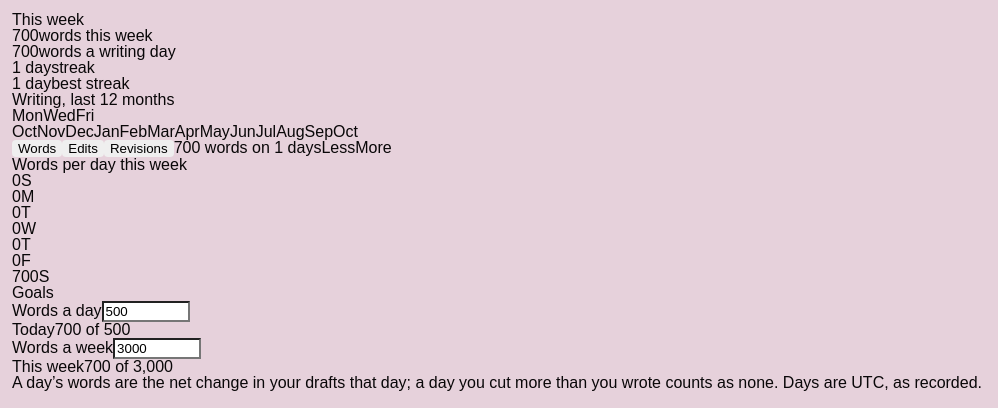
it: the writing analytics › keeps the writer's goals and measures today against them
Expected: the text "700 of 500" is shown, 55,321 -> 130,338
Replace the text in the number field labelled "Words a day" with "1000". click: (146,312)
box: 102,301 -> 190,322
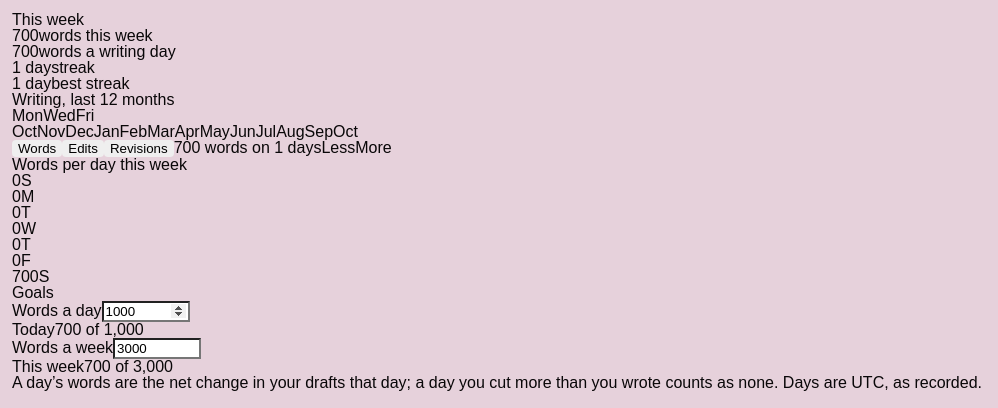
Expected: the text "700 of 1,000" is shown, 55,321 -> 144,338
